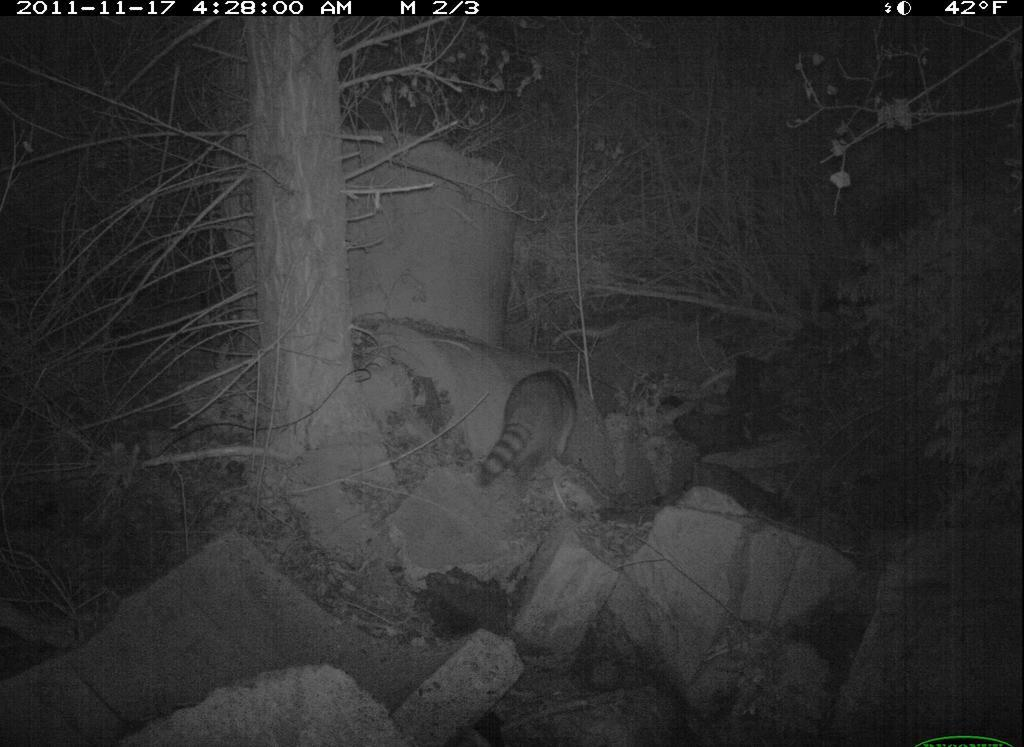raccoon: (477, 361, 584, 510)
